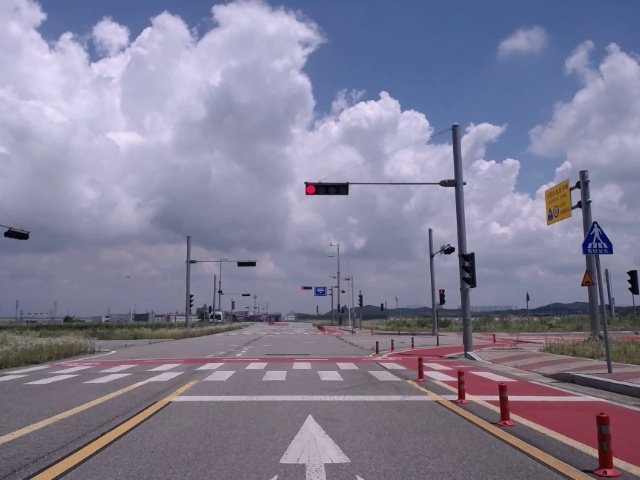red_4: (306, 184, 349, 195)
